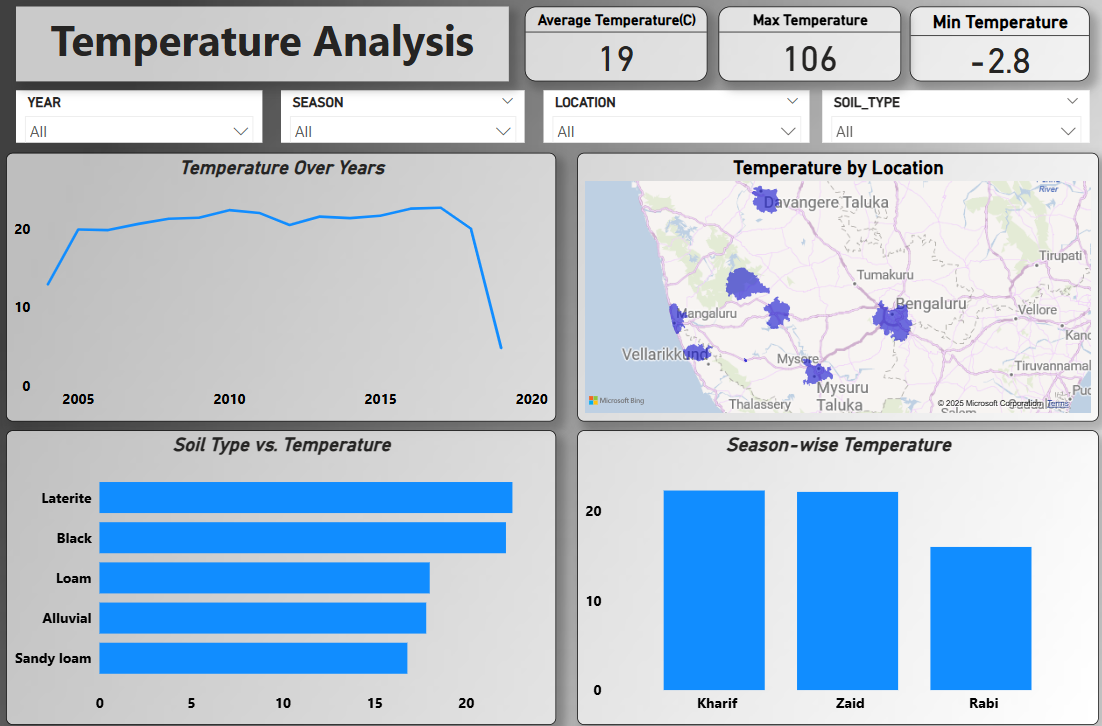

Layout of this report page (visuals, bound fields, positions):
{"tool":"powerbi","page":{"name":"Temperature Analysis","canvas":[1280,850],"ordinal":1},"visuals":[{"type":"lineChart","title":"Temperature Over Years","fields":{"Category":["AGRICULTURE.YEAR"],"Y":["Avg(AGRICULTURE.Temperature_C)"]},"box":[11.4,175.7,628.6,307.1],"z":0},{"type":"filledMap","title":"Temperature by Location","fields":{"Category":["AGRICULTURE.LOCATION"]},"box":[664.3,175.7,595.7,307.1],"z":1000},{"type":"barChart","title":"Soil Type vs. Temperature","fields":{"Y":["Avg(AGRICULTURE.Temperature_C)"],"Category":["AGRICULTURE.SOIL_TYPE"]},"box":[11.4,492.9,628.6,337.1],"z":2000},{"type":"clusteredColumnChart","title":"Season-wise Temperature","fields":{"Category":["AGRICULTURE.SEASON"],"Y":["Avg(AGRICULTURE.Temperature_C)"]},"box":[664.3,492.9,595.7,337.1],"z":3000},{"type":"slicer","fields":{"Values":["AGRICULTURE.YEAR"]},"box":[22.9,104.3,281.4,60],"z":4000},{"type":"card","title":"Average Temperature(C)","fields":{"Values":["Avg(AGRICULTURE.Temperature_C)"]},"box":[604.3,8.6,208.6,85.7],"z":5000},{"type":"card","title":"Min Temperature","fields":{"Values":["Min(AGRICULTURE.Temperature_C)"]},"box":[1044.3,8.6,205.7,85.7],"z":6000},{"type":"slicer","fields":{"Values":["AGRICULTURE.SEASON"]},"box":[325.7,104.3,278.6,60],"z":7000},{"type":"slicer","fields":{"Values":["AGRICULTURE.LOCATION"]},"box":[625.7,104.3,304.3,60],"z":8000},{"type":"slicer","fields":{"Values":["AGRICULTURE.SOIL_TYPE"]},"box":[944.3,104.3,305.7,60],"z":9000},{"type":"textbox","box":[22.9,8.6,562.9,85.7],"z":10000},{"type":"card","title":"Max Temperature","fields":{"Values":["Max(AGRICULTURE.Temperature_C)"]},"box":[825.7,8.6,208.6,85.7],"z":11000}]}

Visuals, with their boxes in screenshot pixels (x1, y1, x2, y2), scaled from the page's 1280x850 canvas onto the 1102x726 screenshot:
"Temperature Over Years" lineChart: x1=10, y1=150, x2=551, y2=412
"Temperature by Location" filledMap: x1=572, y1=150, x2=1085, y2=412
"Soil Type vs. Temperature" barChart: x1=10, y1=421, x2=551, y2=709
"Season-wise Temperature" clusteredColumnChart: x1=572, y1=421, x2=1085, y2=709
slicer - AGRICULTURE.YEAR: x1=20, y1=89, x2=262, y2=140
"Average Temperature(C)" card: x1=520, y1=7, x2=700, y2=81
"Min Temperature" card: x1=899, y1=7, x2=1076, y2=81
slicer - AGRICULTURE.SEASON: x1=280, y1=89, x2=520, y2=140
slicer - AGRICULTURE.LOCATION: x1=539, y1=89, x2=801, y2=140
slicer - AGRICULTURE.SOIL_TYPE: x1=813, y1=89, x2=1076, y2=140
textbox: x1=20, y1=7, x2=504, y2=81
"Max Temperature" card: x1=711, y1=7, x2=890, y2=81
